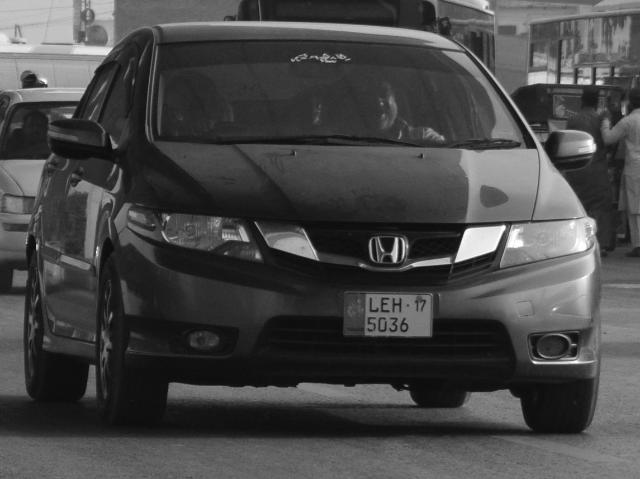Number: (364, 297, 412, 334)
